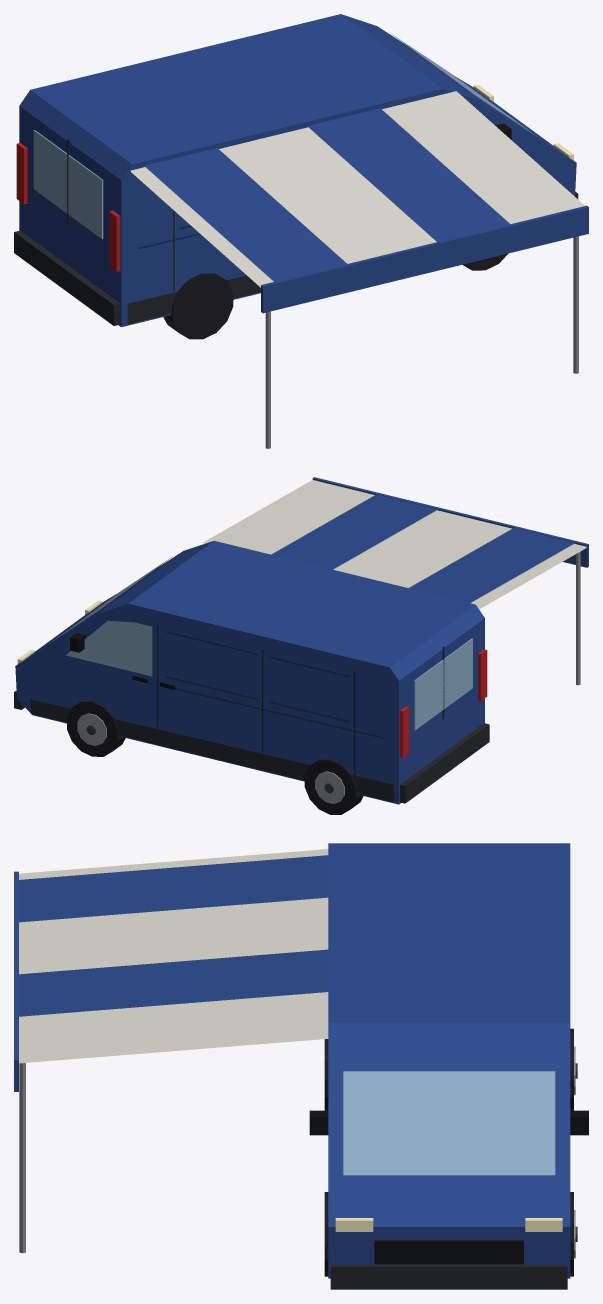
File: mx_van.glb
3 renders of one model, top to bottom at view 1: azimuth 30°, elevation 25°; view 2: azimuth 150°, elevation 25°; view 3: azimuth 270°, elevation 25°, orthographic. The views are drawn at different scales.
Visible parts, largest first — view 1: Body, Awning; view 2: Body, Awning; view 3: Body, Awning.
Part boxes in pixels (<box>): Body: <box>14,14,578,339</box>; Awning: <box>131,91,588,448</box>; Body: <box>14,540,489,814</box>; Awning: <box>203,477,588,685</box>; Body: <box>309,843,588,1289</box>; Awning: <box>14,849,328,1253</box>.
Bounding box in the file's own units: 5.1 × 2 × 4.61.
